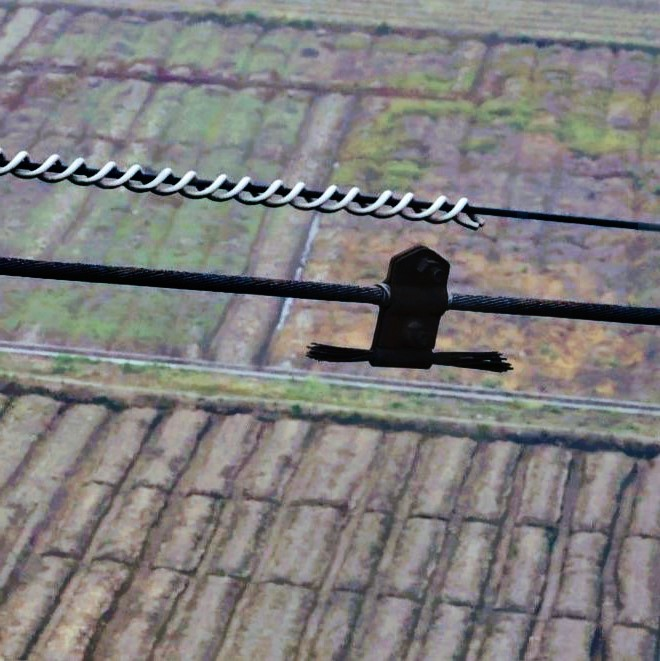Damage of shockproof hammer: (288, 239, 524, 378)
